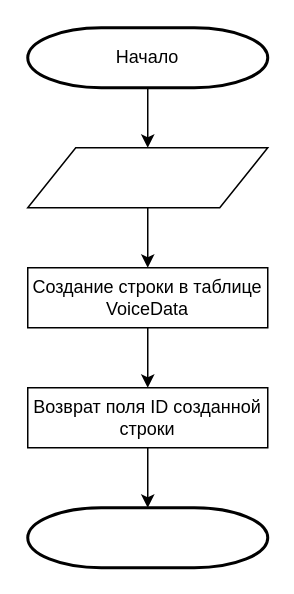
Some shapes in this 294 by 594 pixel diagram are drawn without their labels. Here are the shapes that lost their labels. From the top down, the centre of each, then its label:
At (x=147, y=177): "Ввод обзразца голоса".
At (x=147, y=537): "Конец".
